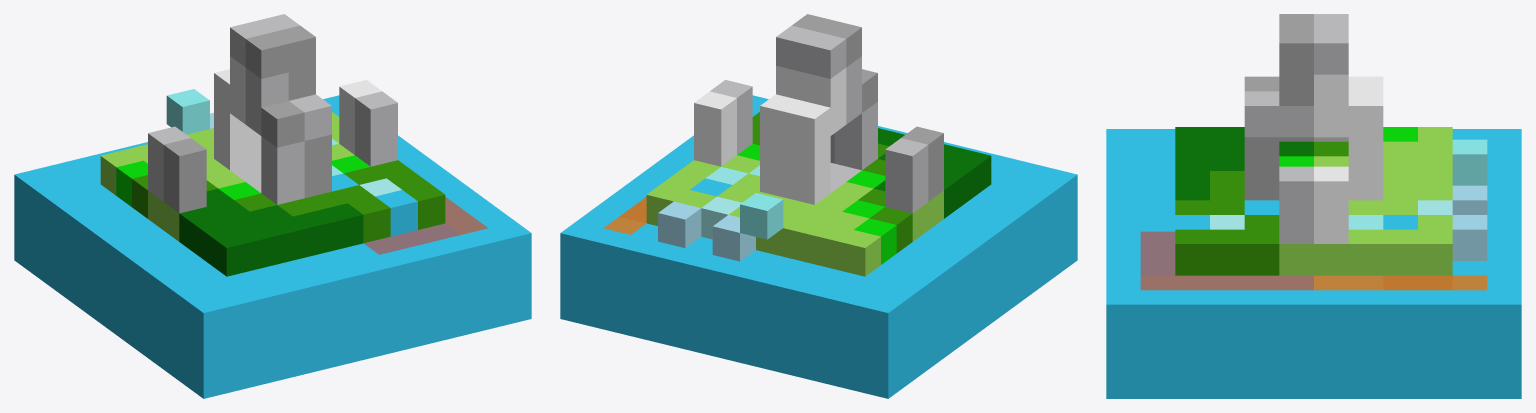
The model's file is LittleIsland.gltf.
3 renders of one model, left to right at view 1: azimuth 30°, elevation 25°; view 2: azimuth 150°, elevation 25°; view 3: azimuth 270°, elevation 25°, orthographic. The views are drawn at different scales.
Bounding box in the file's own units: 12 × 9 × 12.
Materials: 1 (1 with a texture image).
